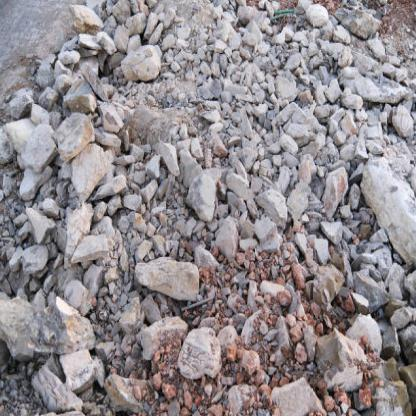Sedimentary_Limestone: (2, 289, 98, 367), (360, 155, 416, 264), (309, 314, 370, 406), (131, 249, 218, 298), (176, 326, 241, 388), (178, 170, 228, 227), (120, 45, 176, 91), (6, 113, 52, 166), (52, 116, 104, 162), (25, 198, 62, 252)
